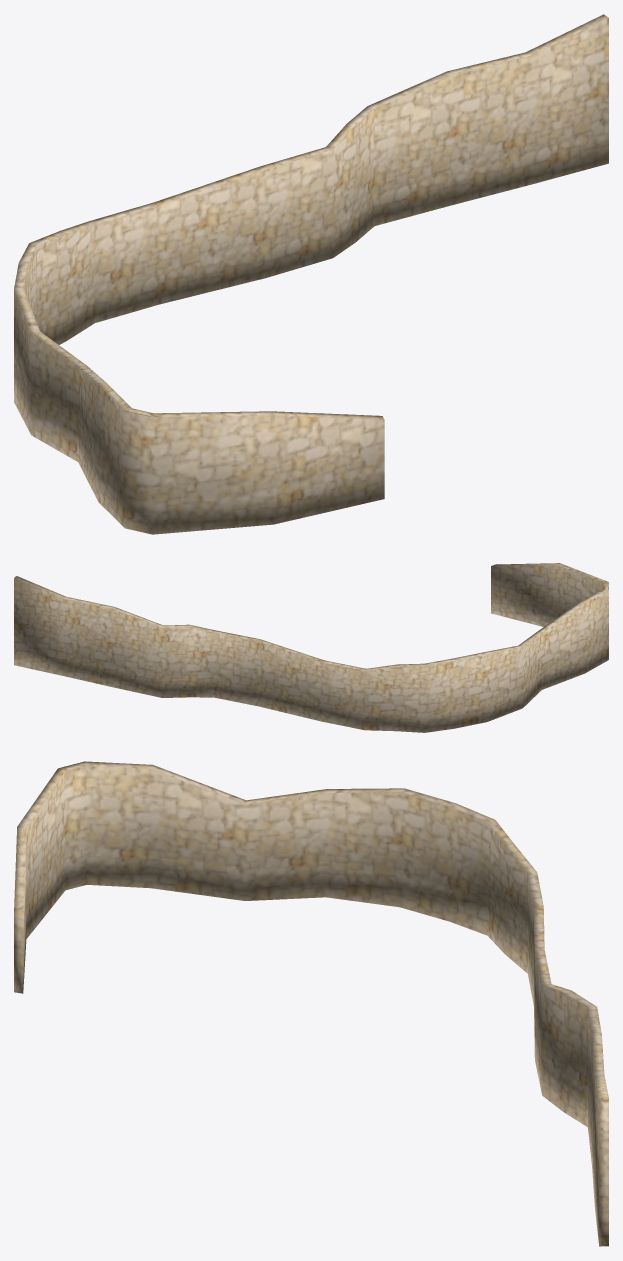
The model's file is Wall.obj.
3 renders of one model, top to bottom at view 1: azimuth 30°, elevation 25°; view 2: azimuth 150°, elevation 25°; view 3: azimuth 270°, elevation 25°, orthographic. The views are drawn at different scales.
Parts seen in each view (by area): view 1: FortressWalls_FortressWallsMesh; view 2: FortressWalls_FortressWallsMesh; view 3: FortressWalls_FortressWallsMesh.
Part boxes in pixels (x1,y1,x2,y2): FortressWalls_FortressWallsMesh: (14,14,608,534); FortressWalls_FortressWallsMesh: (14,563,608,732); FortressWalls_FortressWallsMesh: (14,761,608,1246).
Size of the model in its own units: 176 by 33.38 by 121.
Materials: 1 (1 with a texture image).
